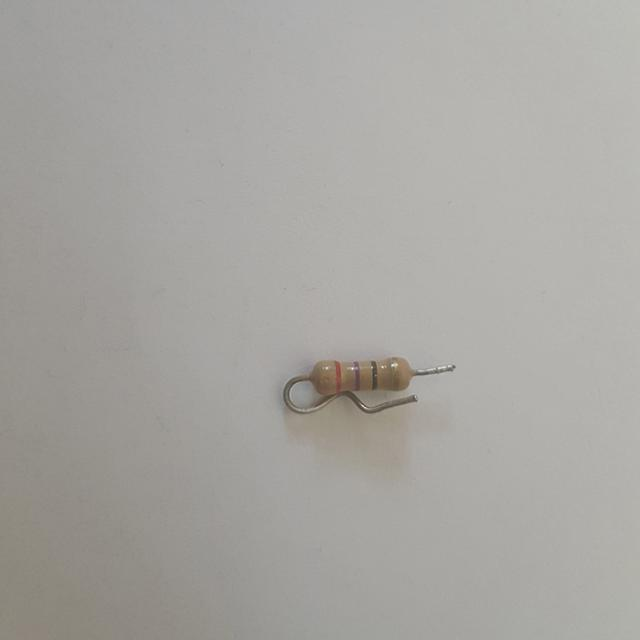black: (371, 360, 377, 388)
gold: (391, 358, 399, 389)
red: (335, 360, 341, 391)
resistor: (309, 346, 415, 399)
violet: (354, 361, 360, 389)
